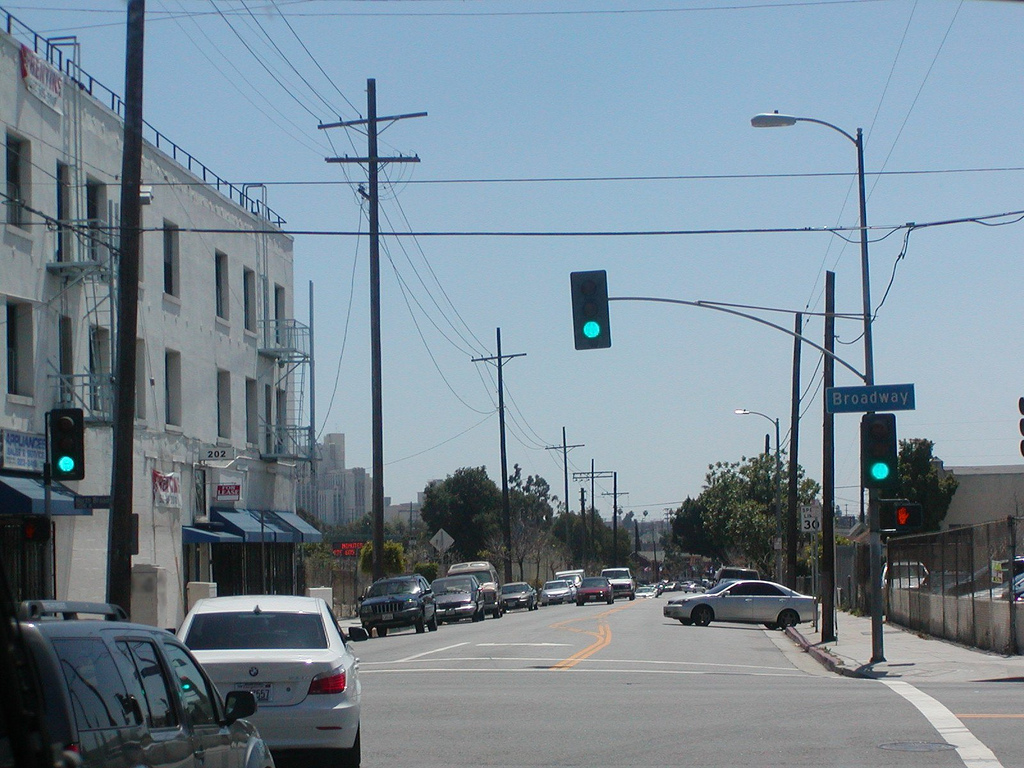traffic_light: (569, 268, 613, 351), (860, 413, 899, 489)
